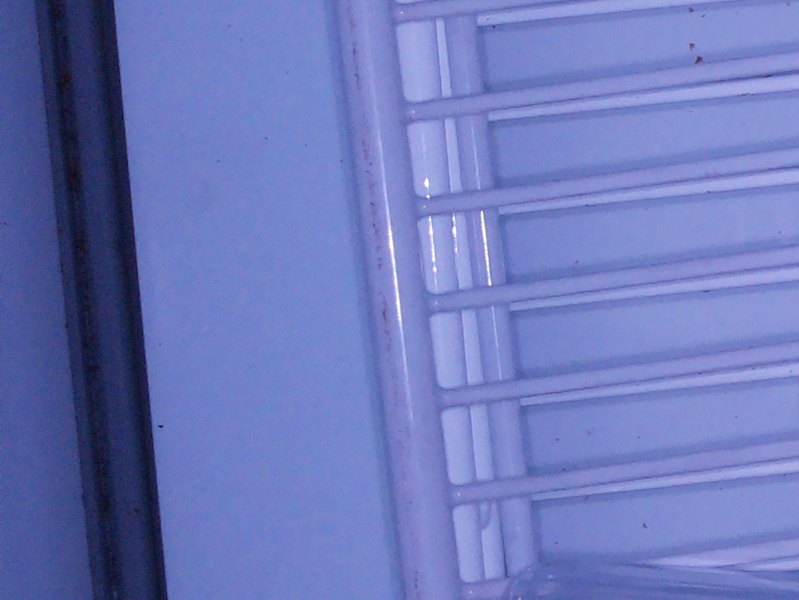plate: (509, 562, 799, 600)
